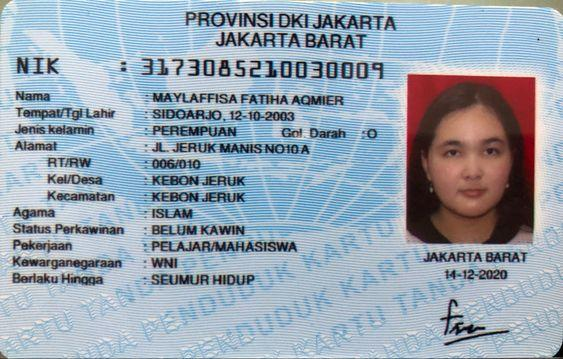ID-card: (0, 4, 561, 359)
